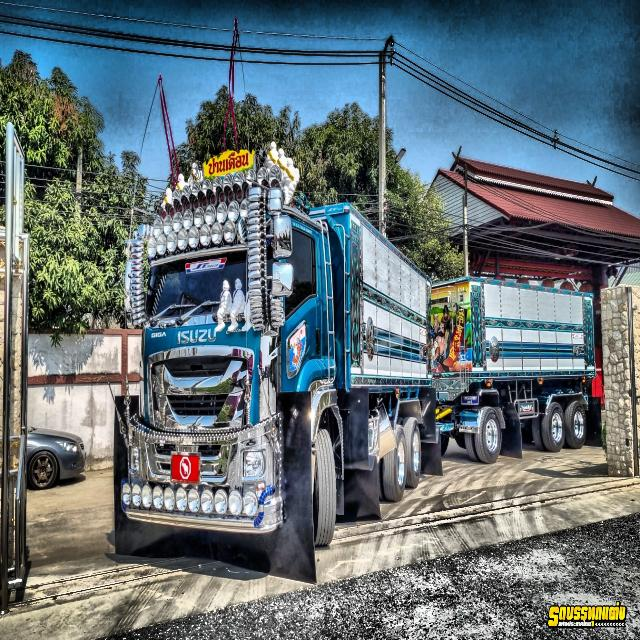trailer: (115, 138, 596, 582)
